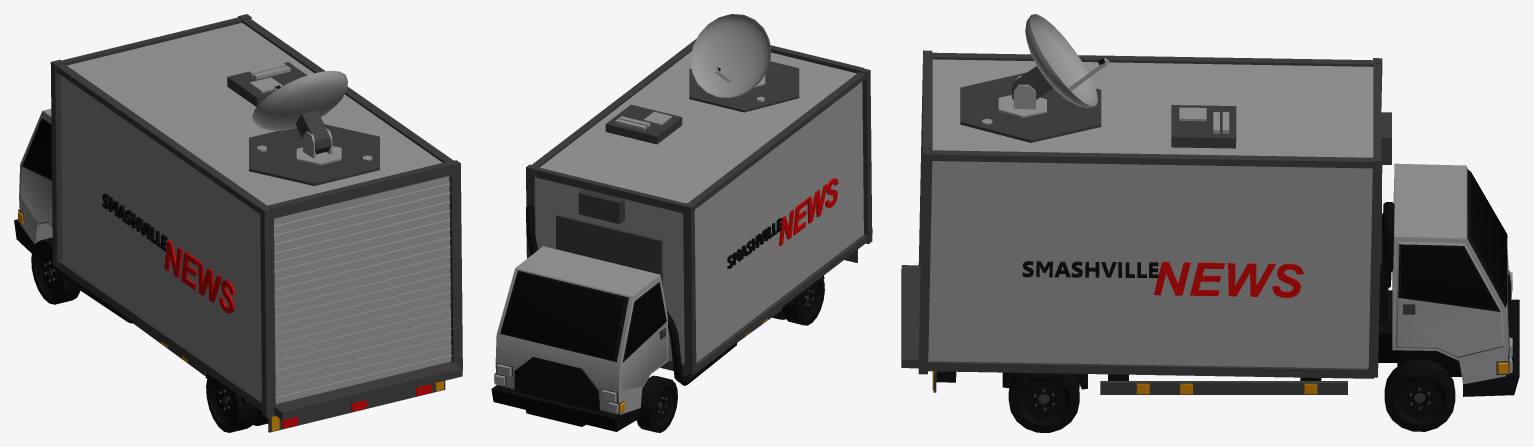
The model's file is TRUCK.FBX.
The picture shows the model from 3 angles, left to right: view 1: azimuth 30°, elevation 25°; view 2: azimuth 150°, elevation 25°; view 3: azimuth 270°, elevation 25°; orthographic projection. The views are drawn at different scales.
Parts seen in each view (by area): view 1: TRUCK, TRUCK TIRE04, TRUCK TIRE01; view 2: TRUCK, TRUCK TIRE01, TRUCK TIRE04; view 3: TRUCK, TRUCK TIRE02, TRUCK TIRE03.
Boxes of the visible parts, bbox=[...] form: TRUCK: bbox=[14, 14, 462, 432]; TRUCK TIRE04: bbox=[206, 374, 256, 432]; TRUCK TIRE01: bbox=[31, 237, 80, 304]; TRUCK: bbox=[491, 14, 872, 431]; TRUCK TIRE01: bbox=[636, 375, 677, 432]; TRUCK TIRE04: bbox=[782, 276, 824, 325]; TRUCK: bbox=[901, 14, 1519, 396]; TRUCK TIRE02: bbox=[1384, 359, 1455, 431]; TRUCK TIRE03: bbox=[1008, 373, 1079, 432].
Size of the model in its own units: 79.14 by 132 by 201.
